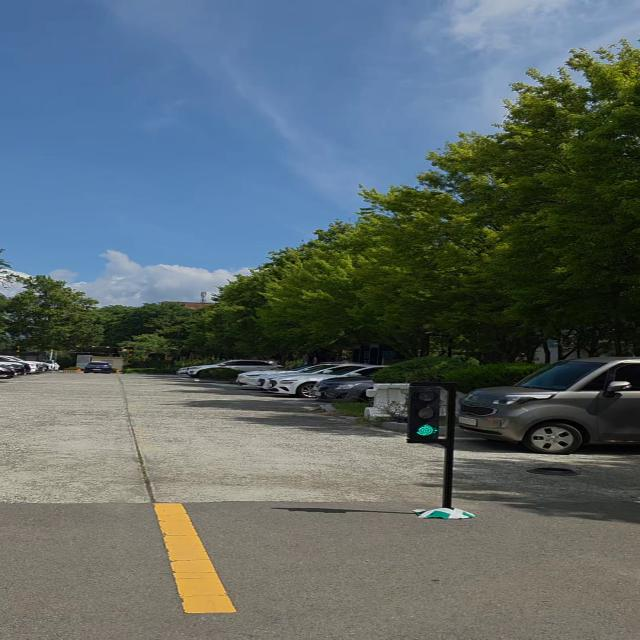green: (403, 384, 447, 446)
